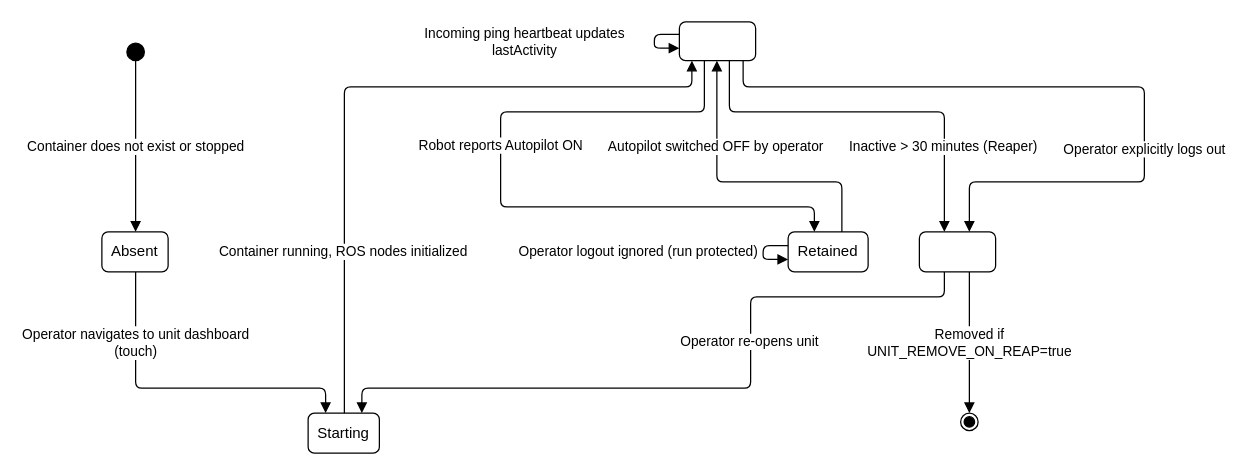
The diagram is 1248 pixels wide and 475 high, and some of its shapes have lost their labels. Each missing label, with the centre of its shape:
"Running" goes at point (717, 41).
"Stopped" goes at point (957, 251).
